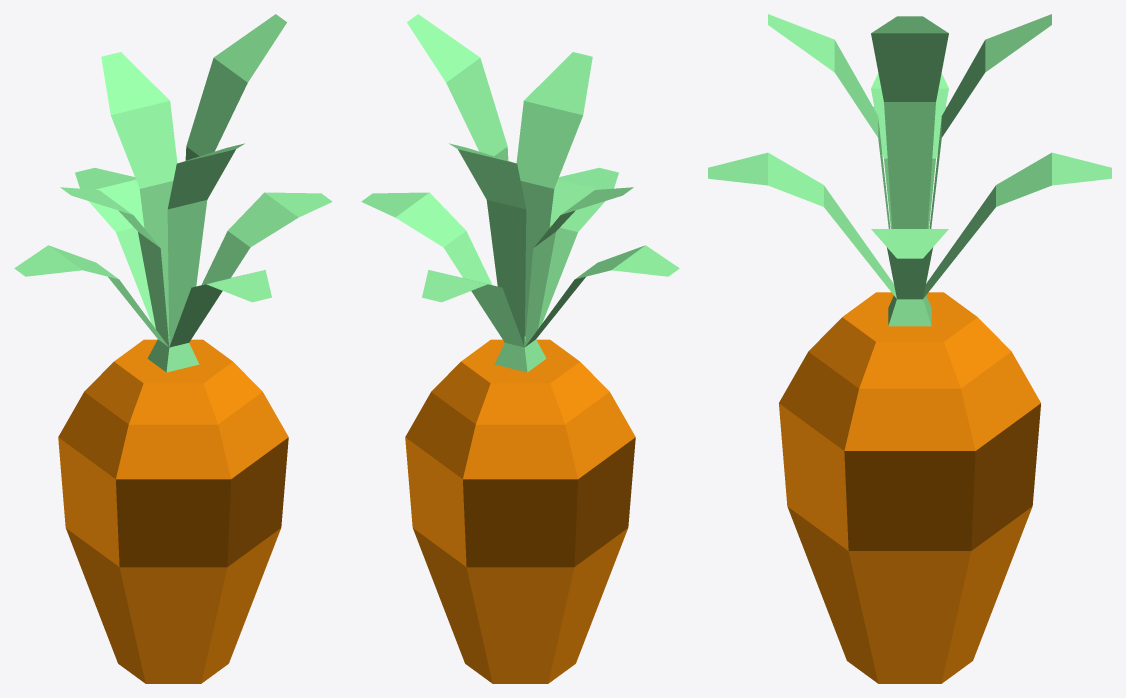
Rendered from 17_carrot.fbx.
The picture shows the model from 3 angles, left to right: view 1: azimuth 30°, elevation 25°; view 2: azimuth 150°, elevation 25°; view 3: azimuth 270°, elevation 25°; orthographic projection. The views are drawn at different scales.
Parts seen in each view (by area): view 1: crop_turnip; view 2: crop_turnip; view 3: crop_turnip.
Part boxes in pixels (left/top/right/bottom): crop_turnip: left=14, top=14, right=332, bottom=683; crop_turnip: left=361, top=14, right=679, bottom=683; crop_turnip: left=708, top=14, right=1111, bottom=683.
Bounding box in the file's own units: 3.43 × 6.61 × 3.43.
